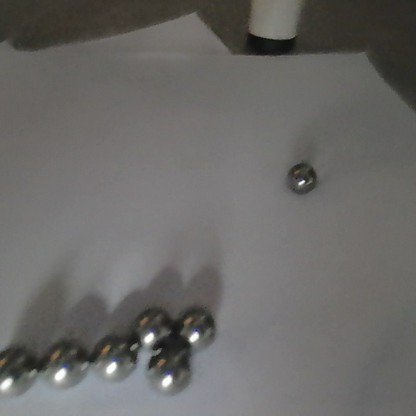ironball: (144, 348, 200, 395), (37, 337, 89, 385), (0, 337, 38, 401), (89, 331, 136, 382), (129, 307, 179, 353), (174, 307, 214, 351), (283, 160, 320, 195)
